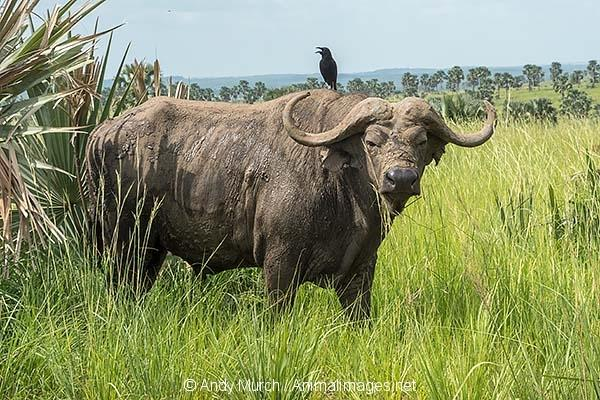Buffalo: (59, 36, 547, 331)
